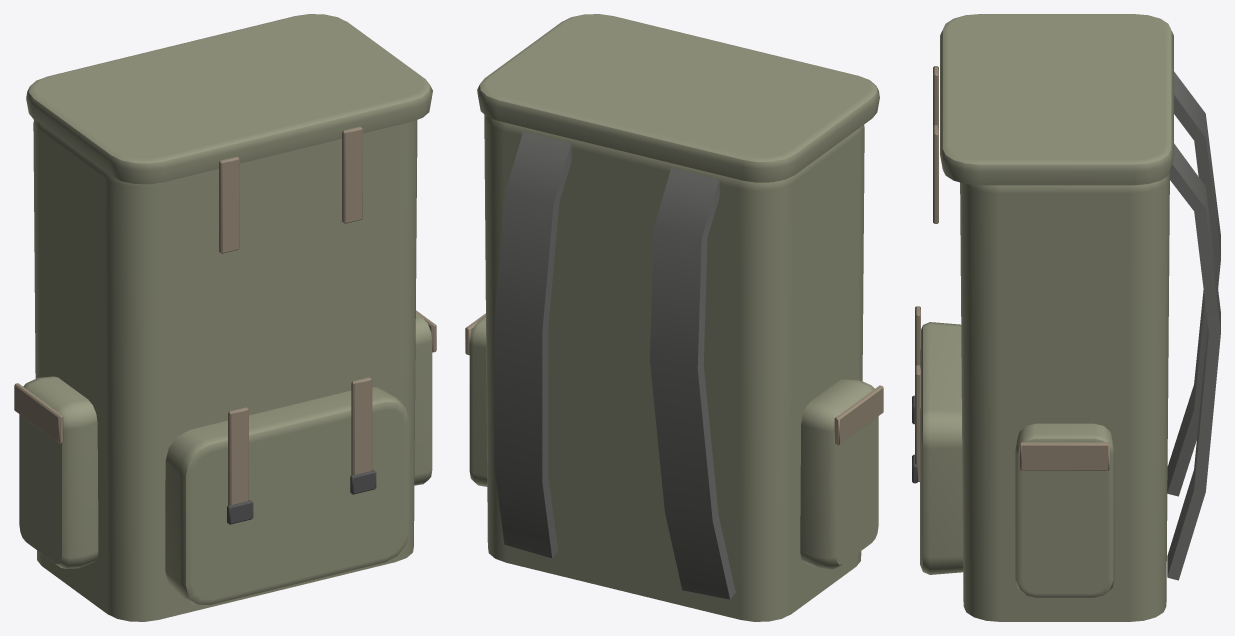
File: backpack.glb
3 views of the same model, side by side, from view 1: azimuth 30°, elevation 25°; view 2: azimuth 150°, elevation 25°; view 3: azimuth 270°, elevation 25° (orthographic).
Visible parts, largest first — view 1: pack, pack_lid_closed; view 2: pack, pack_lid_closed; view 3: pack, pack_lid_closed.
Boxes of the visible parts, x1,y1,x2,y2 form: pack: [14, 120, 436, 621]; pack_lid_closed: [26, 14, 432, 253]; pack: [465, 114, 883, 621]; pack_lid_closed: [477, 14, 879, 182]; pack: [912, 71, 1220, 621]; pack_lid_closed: [933, 14, 1173, 223].
Size of the model in its own units: 0.43 by 0.514 by 0.309.
